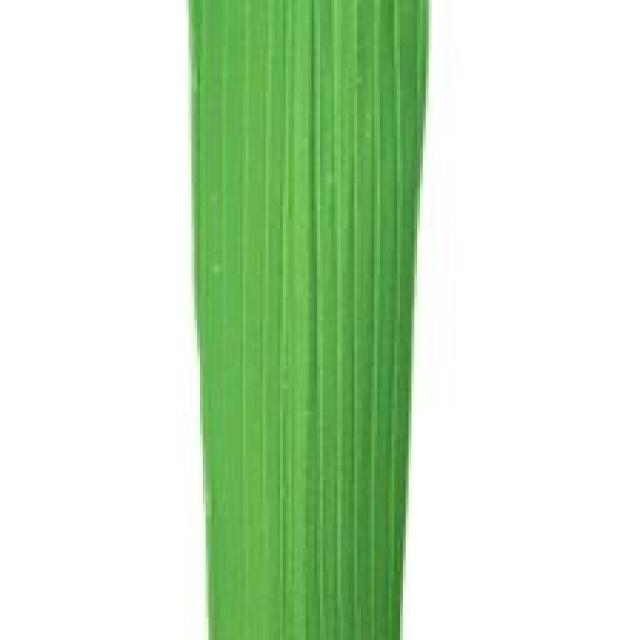Rice___Healthy_Rice_Plant: (187, 0, 429, 637)
